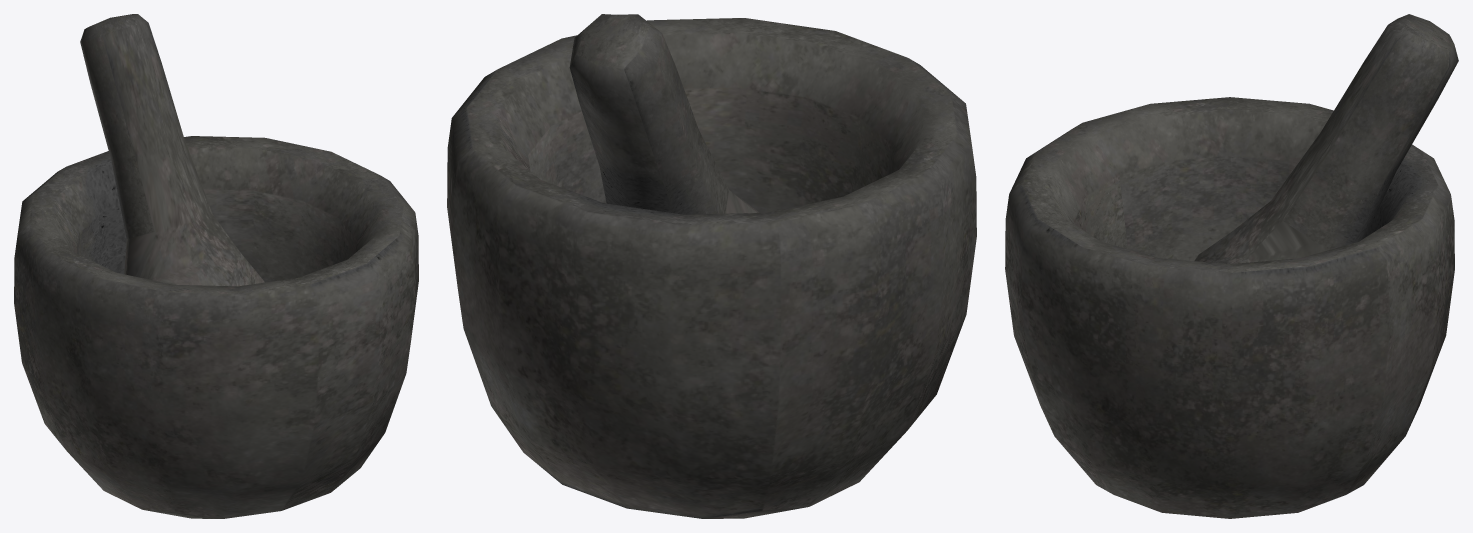
Rendered from mortar.gltf.
3 renders of one model, left to right at view 1: azimuth 30°, elevation 25°; view 2: azimuth 150°, elevation 25°; view 3: azimuth 270°, elevation 25°, orthographic. The views are drawn at different scales.
Visible parts, largest first — view 1: Cube; view 2: Cube; view 3: Cube.
Boxes of the visible parts, box(x1,y1,x2,y2) form: Cube: box(14, 14, 418, 518); Cube: box(447, 14, 976, 518); Cube: box(1005, 14, 1458, 518).
Bounding box in the file's own units: 1.79 × 2 × 1.8.
Materials: 1 (1 with a texture image).
